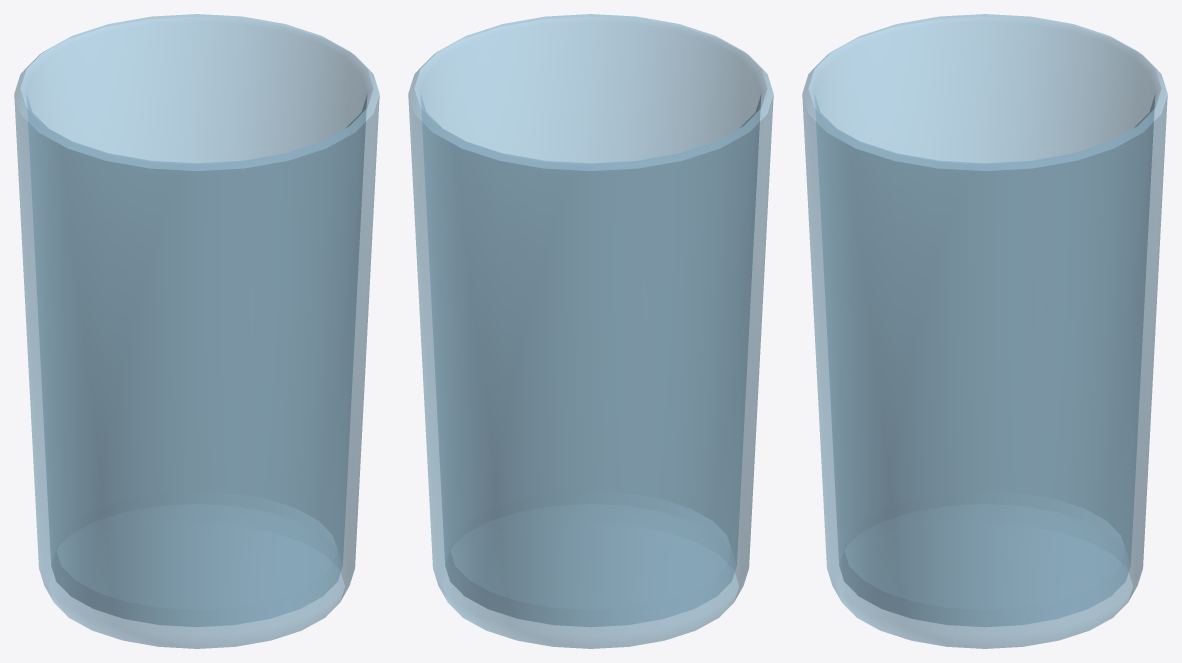
The model's file is copo_vidro.glb.
3 views of the same model, side by side, from view 1: azimuth 30°, elevation 25°; view 2: azimuth 150°, elevation 25°; view 3: azimuth 270°, elevation 25° (orthographic).
Parts seen in each view (by area): view 1: copo_vidro; view 2: copo_vidro; view 3: copo_vidro.
Part boxes in pixels (left/top/right/bottom): copo_vidro: left=14, top=14, right=379, bottom=648; copo_vidro: left=408, top=14, right=773, bottom=648; copo_vidro: left=802, top=14, right=1167, bottom=648.
Bounding box in the file's own units: 0.074 × 0.1112 × 0.074.
